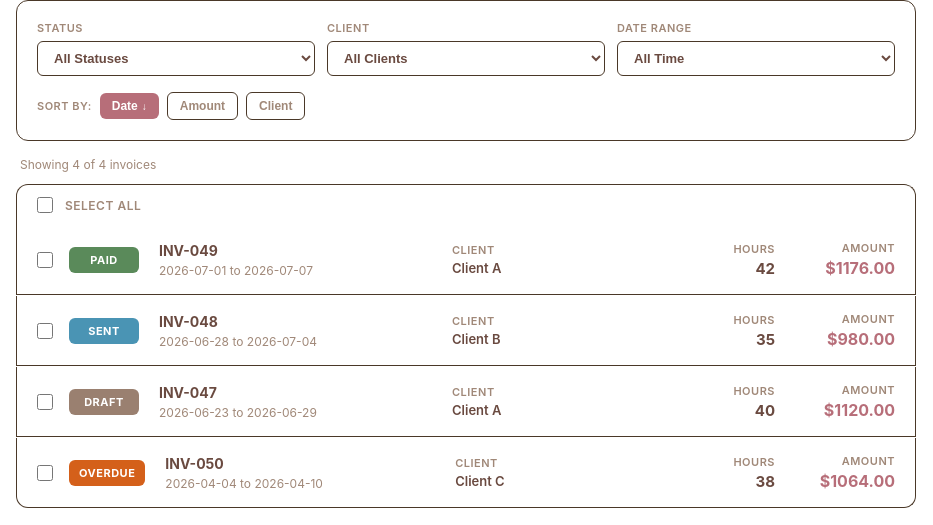
Test: ListView › shows empty state when no invoices match filters
# Filter to a non-existent client
Select "Client A" in the dropdown labelled "Client" at (466, 58), box [327,41,605,76]
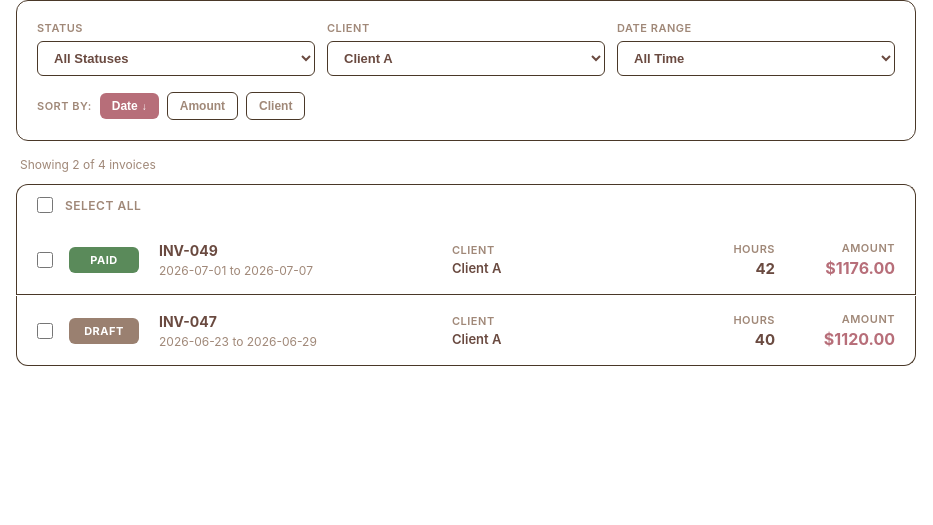
Select "Overdue" in the dropdown labelled "Status" at (176, 58), box [37,41,315,76]
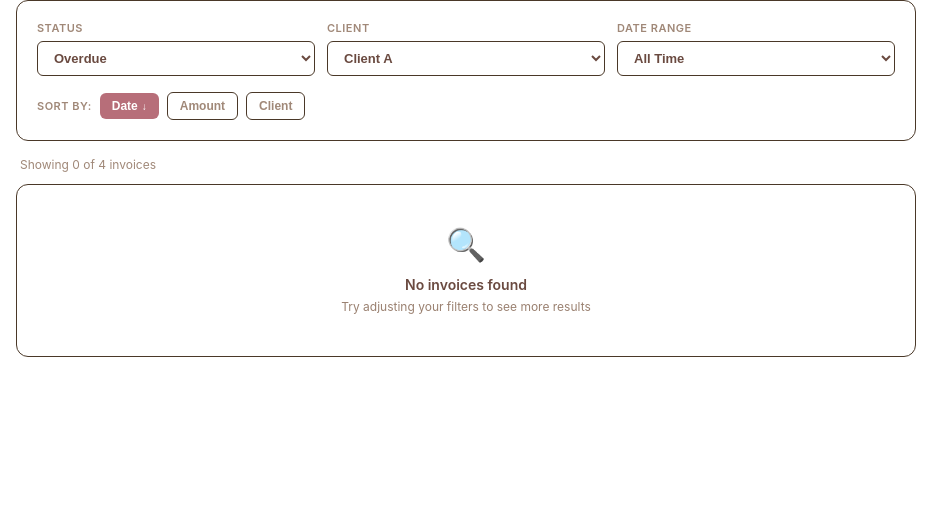
Expected: the text "No invoices found" is shown, [405,276,527,293]
Expected: the text "Try adjusting your filters to see more results" is shown, [341,299,591,314]
